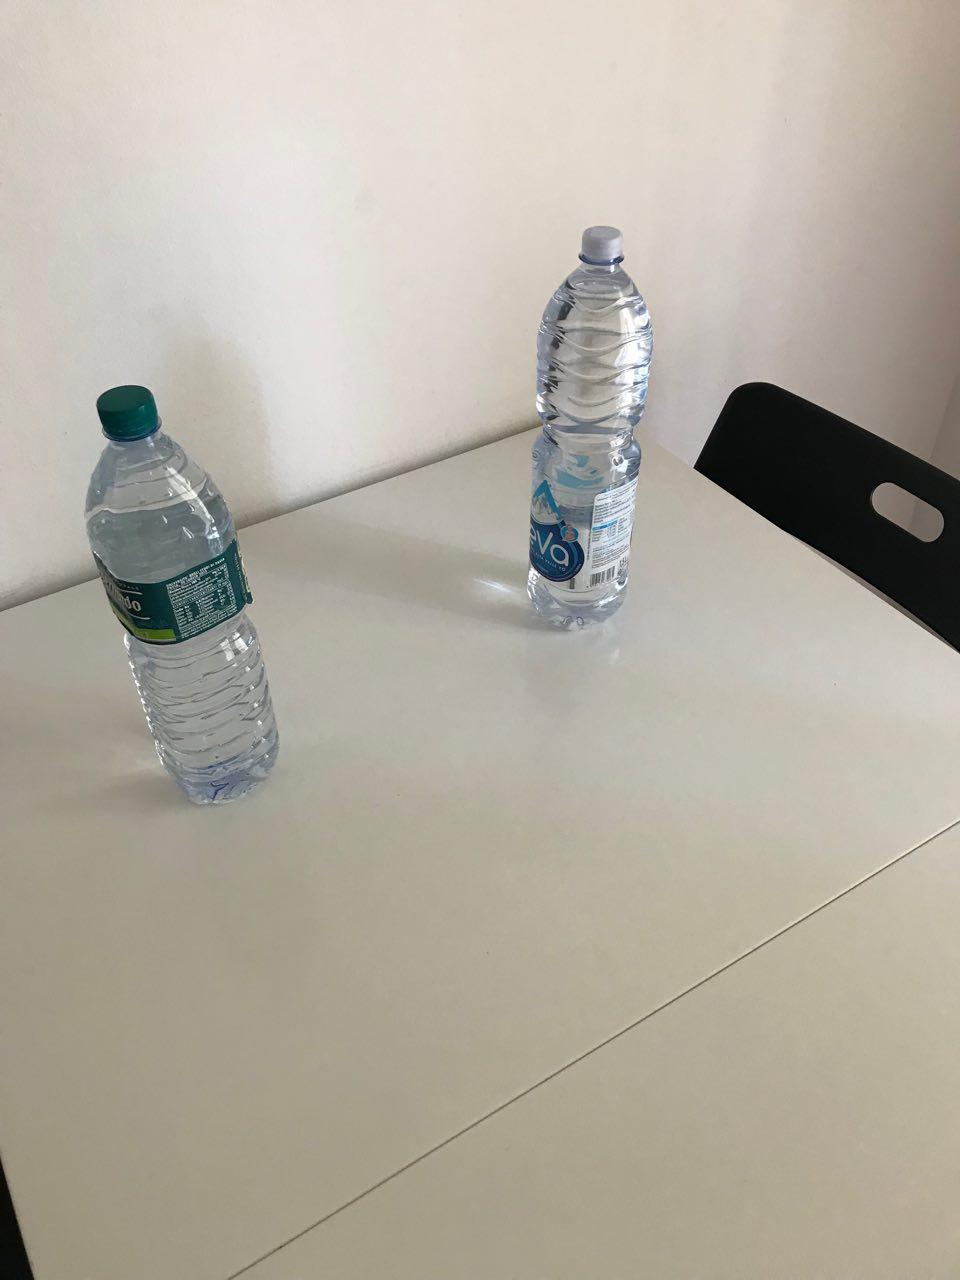san_bernardo: (84, 384, 280, 806)
